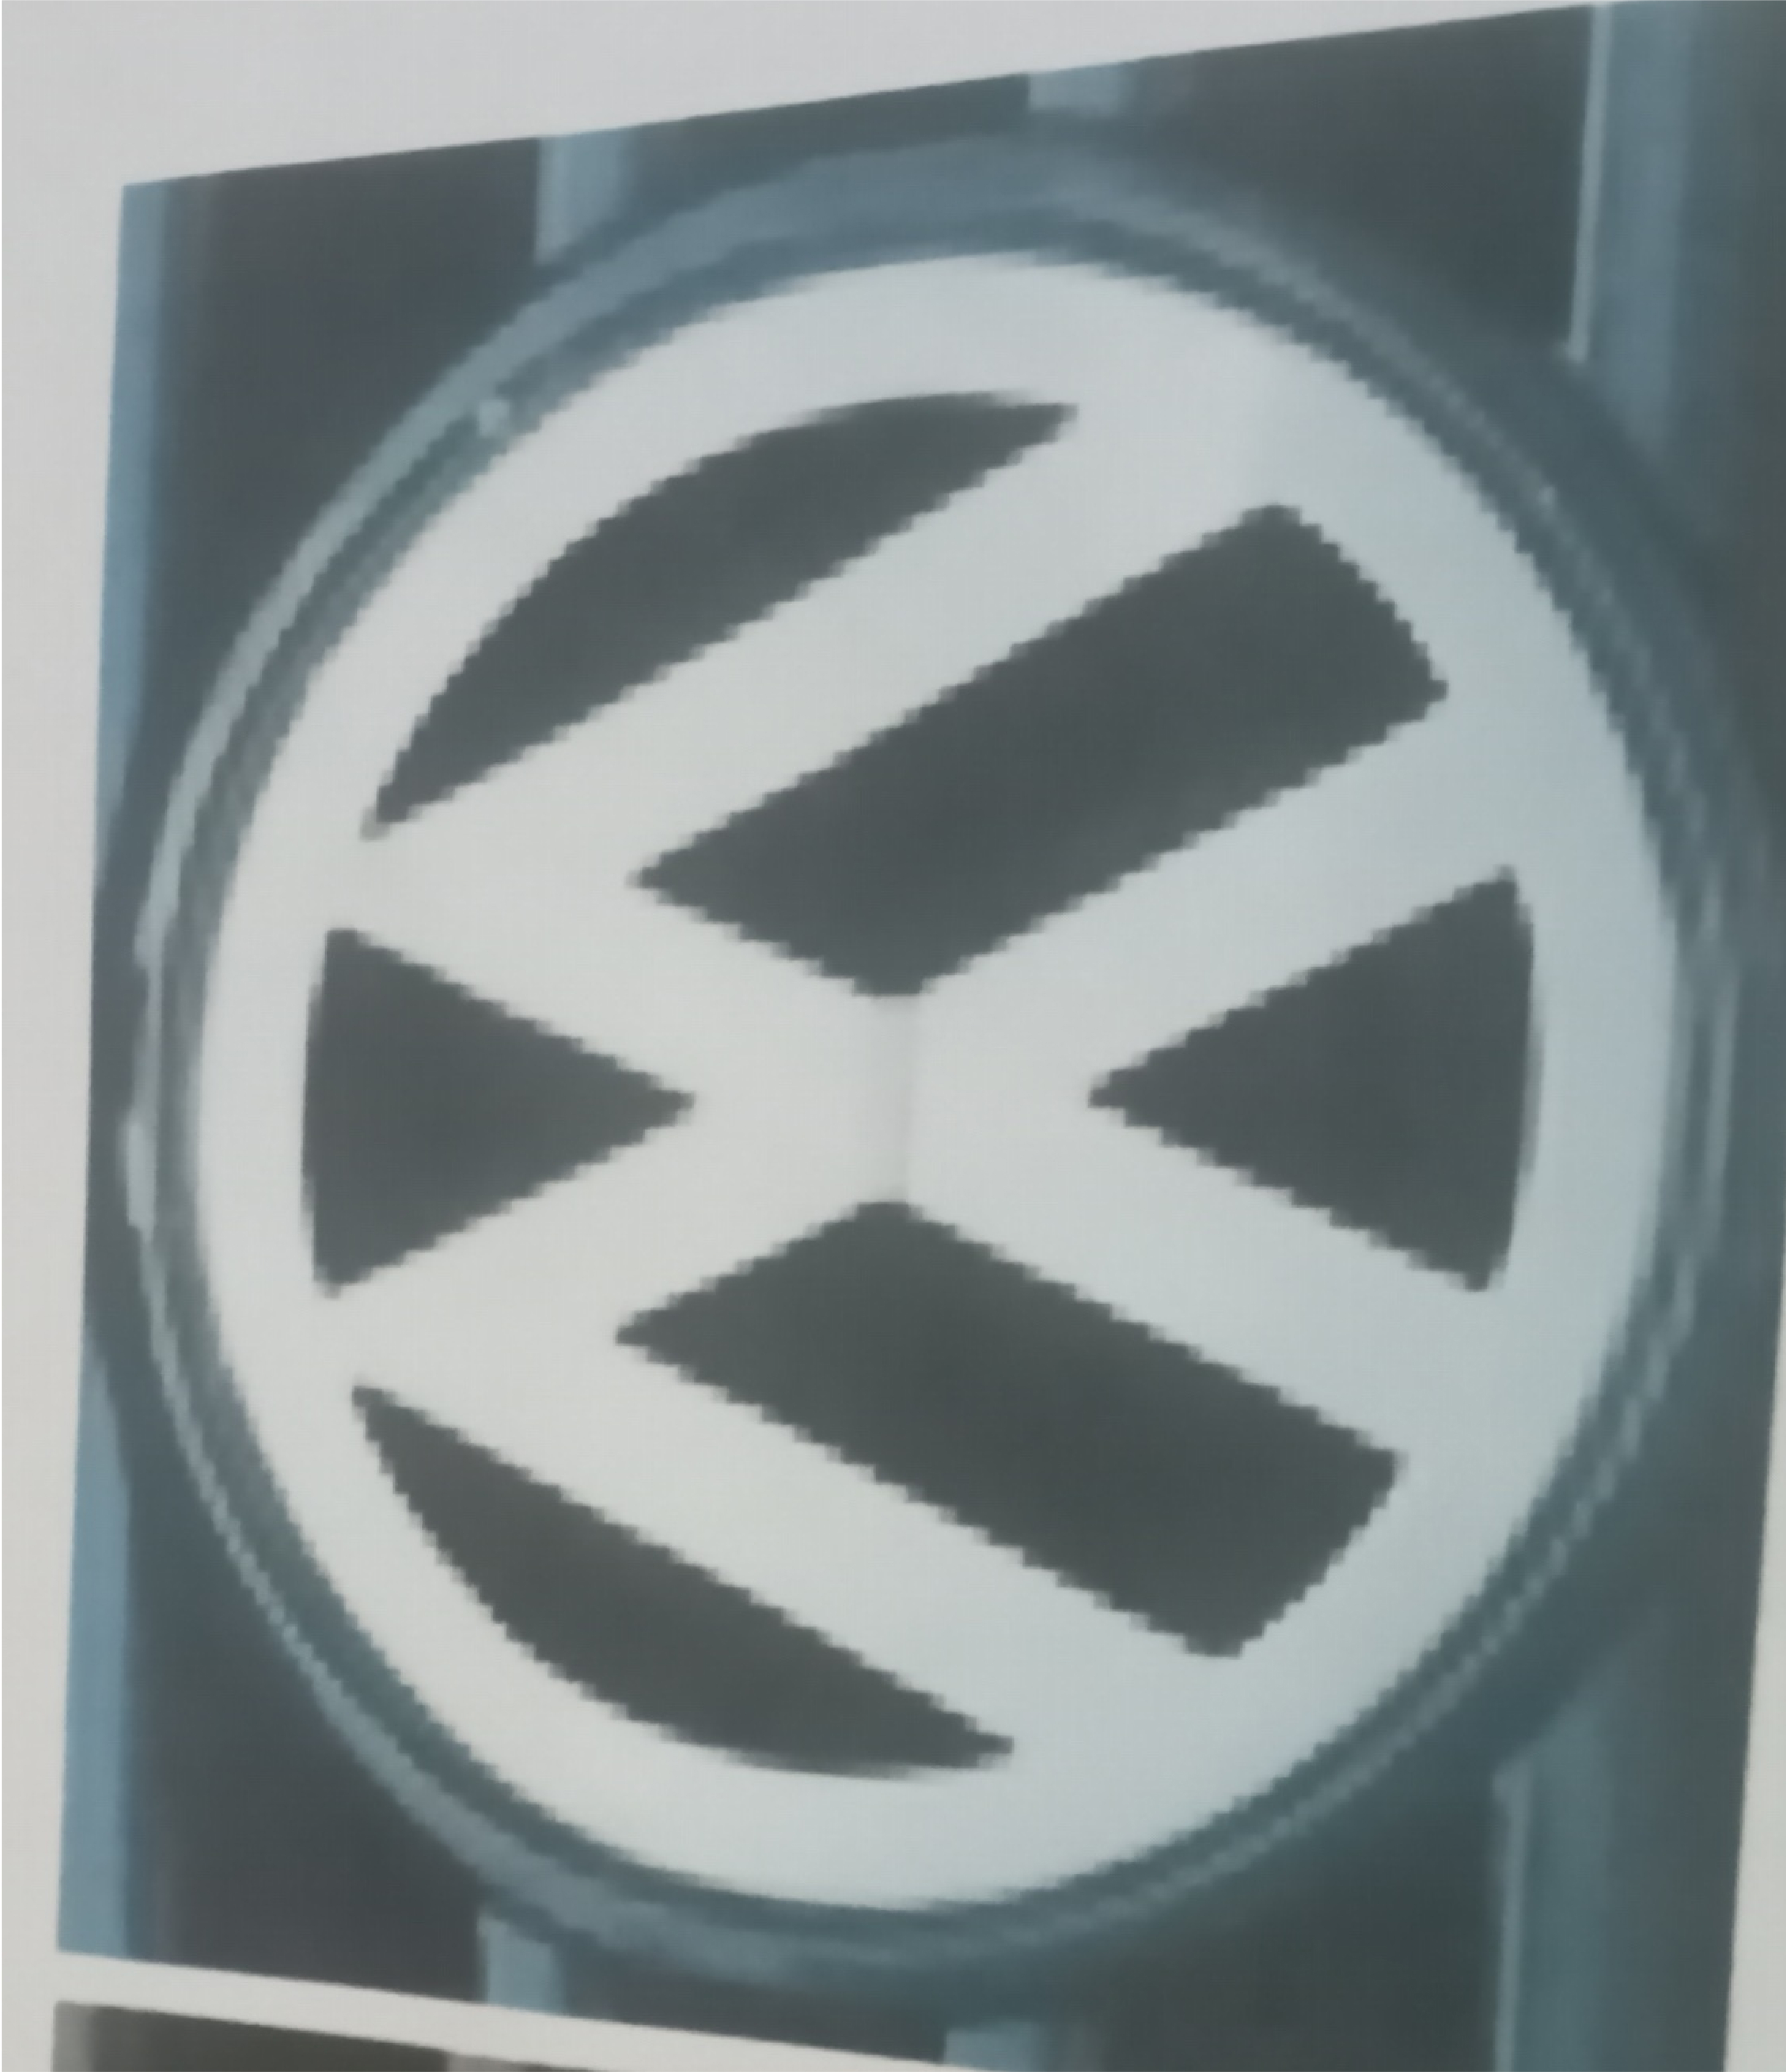Volkswagen: (137, 139, 1784, 2033)
